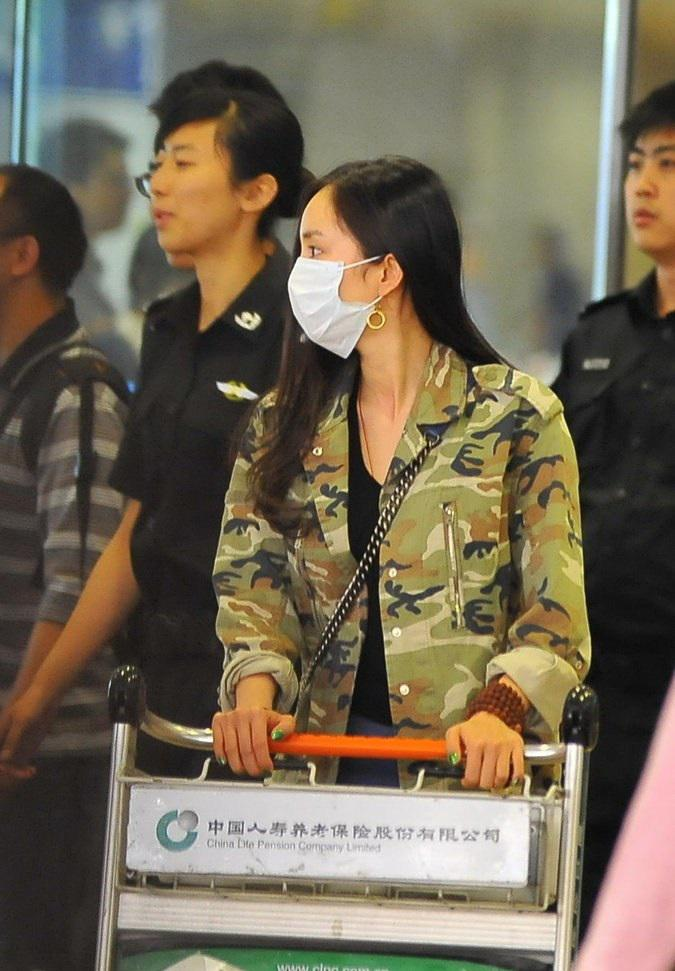NONE: (152, 134, 237, 256), (632, 139, 675, 249)
OK: (284, 207, 422, 345)
